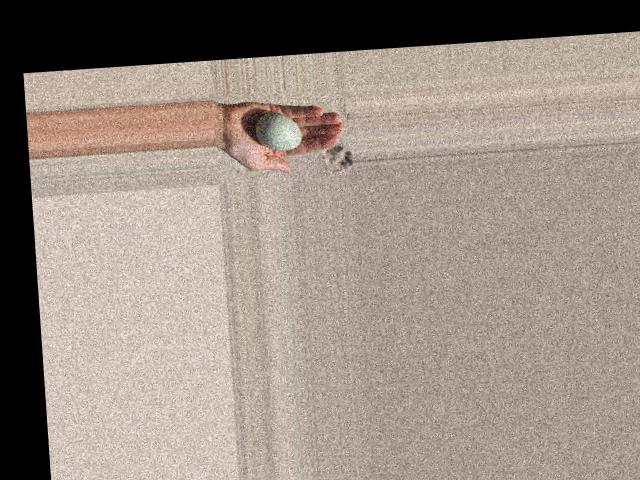egg: (255, 110, 303, 151)
